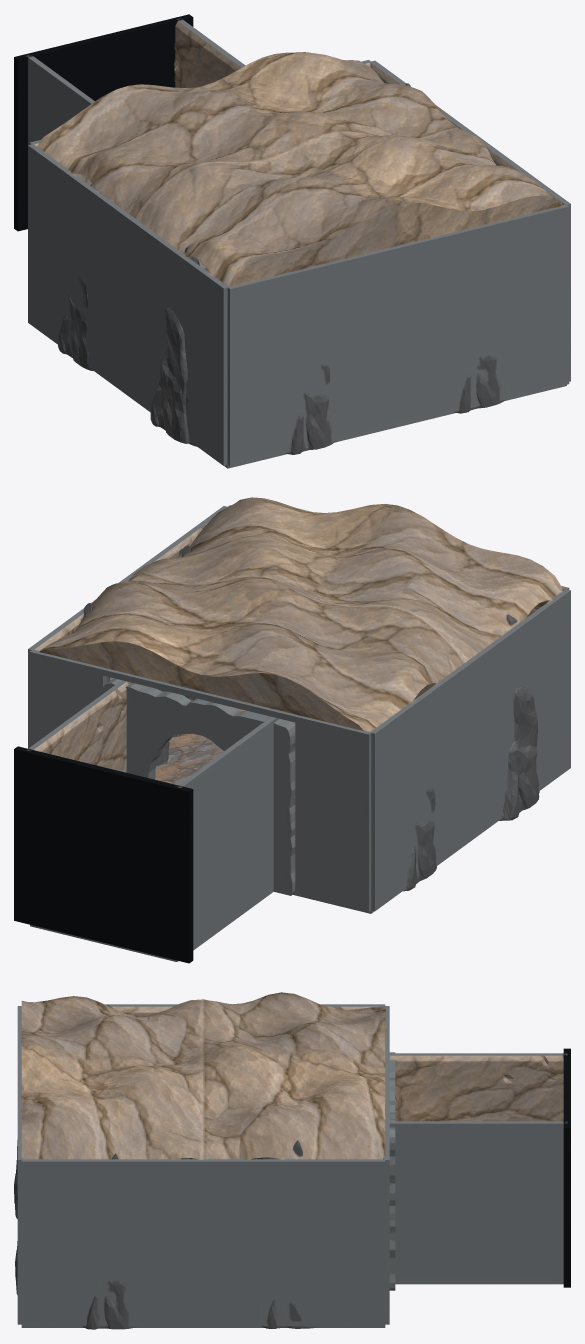
Rendered from room.glb.
3 renders of one model, top to bottom at view 1: azimuth 30°, elevation 25°; view 2: azimuth 150°, elevation 25°; view 3: azimuth 270°, elevation 25°, orthographic. The views are drawn at different scales.
Visible parts, largest first — view 1: SAFE-ROOM; view 2: SAFE-ROOM; view 3: SAFE-ROOM.
Part boxes in pixels (x1,y1,x2,y2): SAFE-ROOM: (14, 14, 570, 468); SAFE-ROOM: (14, 497, 570, 963); SAFE-ROOM: (14, 992, 570, 1329).
Size of the model in its own units: 6.34 by 3.78 by 9.19.
Materials: 1 (1 with a texture image).
